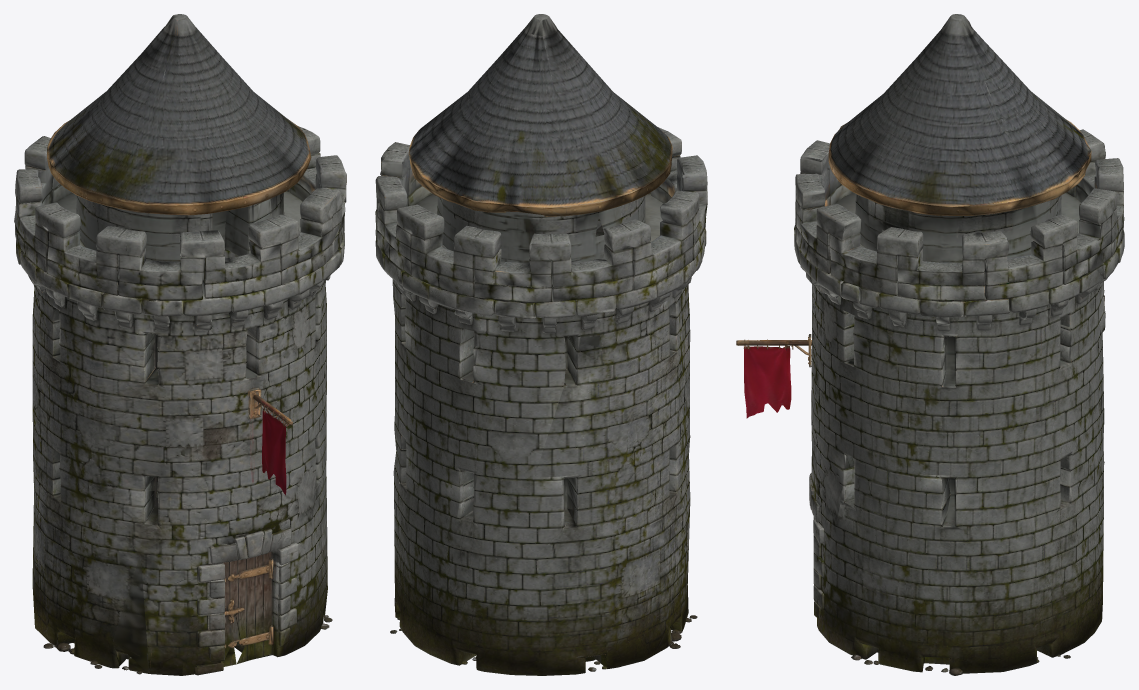
Rendered from cas-tower_optimized.glb.
3 renders of one model, left to right at view 1: azimuth 30°, elevation 25°; view 2: azimuth 150°, elevation 25°; view 3: azimuth 270°, elevation 25°, orthographic.
Visible parts, largest first — view 1: Mesh_0; view 2: Mesh_0; view 3: Mesh_0.
Part boxes in pixels (x1=…): Mesh_0: x1=14, y1=14, x2=346, y2=675; Mesh_0: x1=375, y1=14, x2=707, y2=675; Mesh_0: x1=736, y1=14, x2=1124, y2=675.
Size of the model in its own units: 0.4805 by 0.9512 by 0.5615.
Materials: 1 (1 with a texture image).
